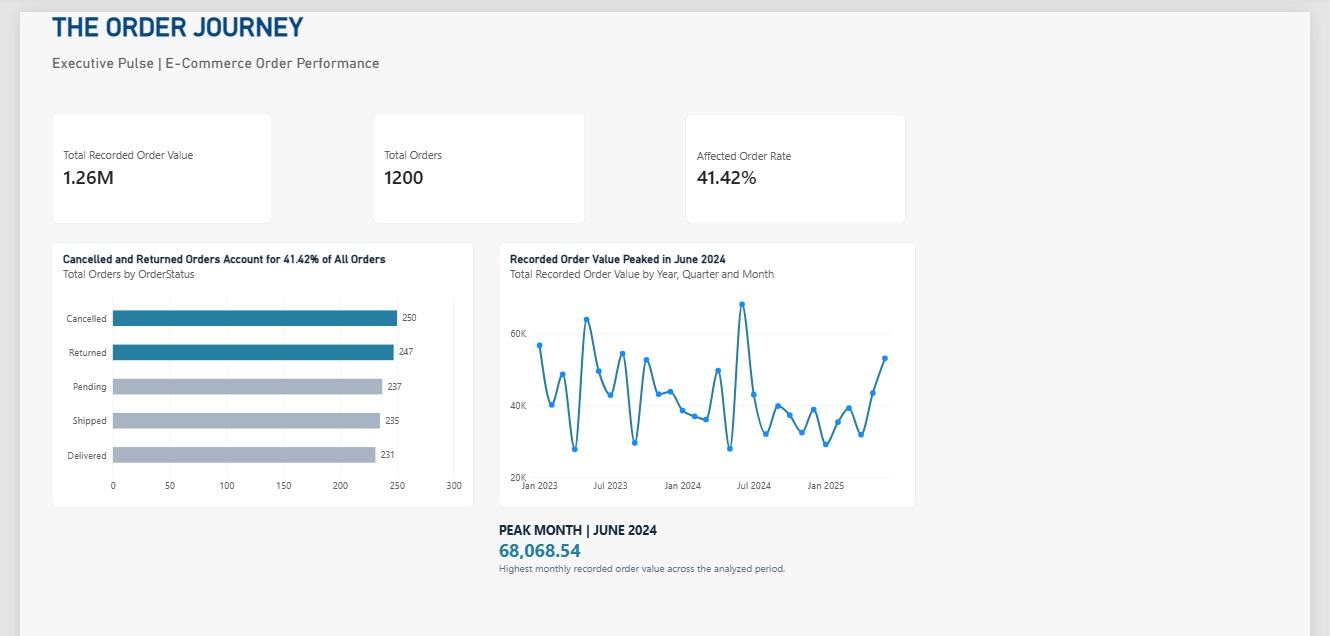

The dashboard page shown, as its layout file describes it:
{"tool":"powerbi","page":{"name":"Executive Pulse","canvas":[1920,1080],"ordinal":0},"visuals":[{"type":"cardVisual","fields":{"Data":["Orders.Total Recorded Order Value"]},"box":[47.5,150,328.1,165.5],"z":0},{"type":"cardVisual","fields":{"Data":["Orders.Total Orders"]},"box":[525,150,316.3,165.5],"z":1000},{"type":"cardVisual","fields":{"Data":["Orders.Affected Order Rate"]},"box":[990,152.5,328.1,162.6],"z":2000},{"type":"textbox","box":[47.5,0,449.3,124.1],"z":3000},{"type":"textbox","box":[47.5,62.5,552.7,88.7],"z":4000},{"type":"clusteredBarChart","title":"Cancelled and Returned Orders Account for 41.42% of All Orders","fields":{"Category":["Orders.OrderStatus"],"Y":["Orders.Total Orders"]},"box":[47.5,342.5,627.5,395],"z":5000},{"type":"lineChart","title":"Recorded Order Value Peaked in June 2024","fields":{"Category":["Orders.Date.Variation.Date Hierarchy.Year","Orders.Date.Variation.Date Hierarchy.Quarter","Orders.Date.Variation.Date Hierarchy.Month","Orders.Date.Variation.Date Hierarchy.Day"],"Y":["Orders.Total Recorded Order Value"]},"box":[712.5,342.5,620,395],"z":6000},{"type":"textbox","box":[712.5,757.5,620,122.5],"z":7000}]}

Visuals, with their boxes on the page's 1920x1080 design canvas (x1, y1, x2, y2). These are canvas units, not pixel positions in the 1330x636 screenshot, which may show the page scaled, cropped or inside an application window:
cardVisual - Orders.Total Recorded Order Value: crop(48, 150, 376, 316)
cardVisual - Orders.Total Orders: crop(525, 150, 841, 316)
cardVisual - Orders.Affected Order Rate: crop(990, 152, 1318, 315)
textbox: crop(48, 0, 497, 124)
textbox: crop(48, 62, 600, 151)
"Cancelled and Returned Orders Account for 41.42% of All Orders" clusteredBarChart: crop(48, 342, 675, 738)
"Recorded Order Value Peaked in June 2024" lineChart: crop(712, 342, 1332, 738)
textbox: crop(712, 758, 1332, 880)
